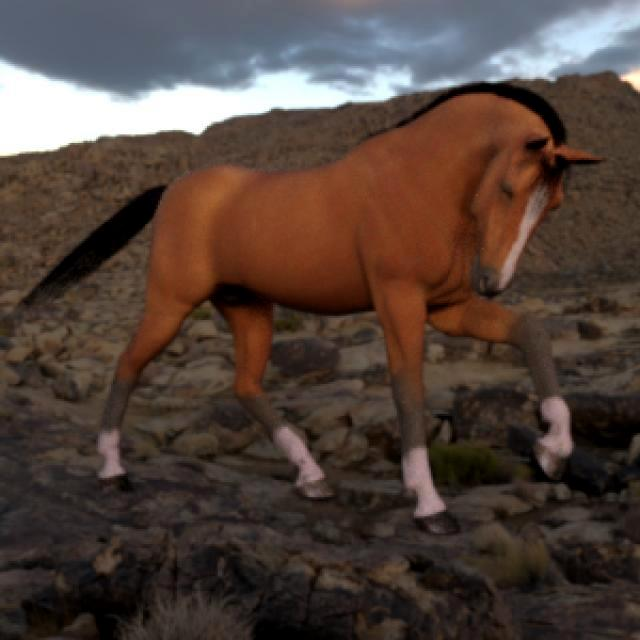horse: (17, 84, 602, 534)
